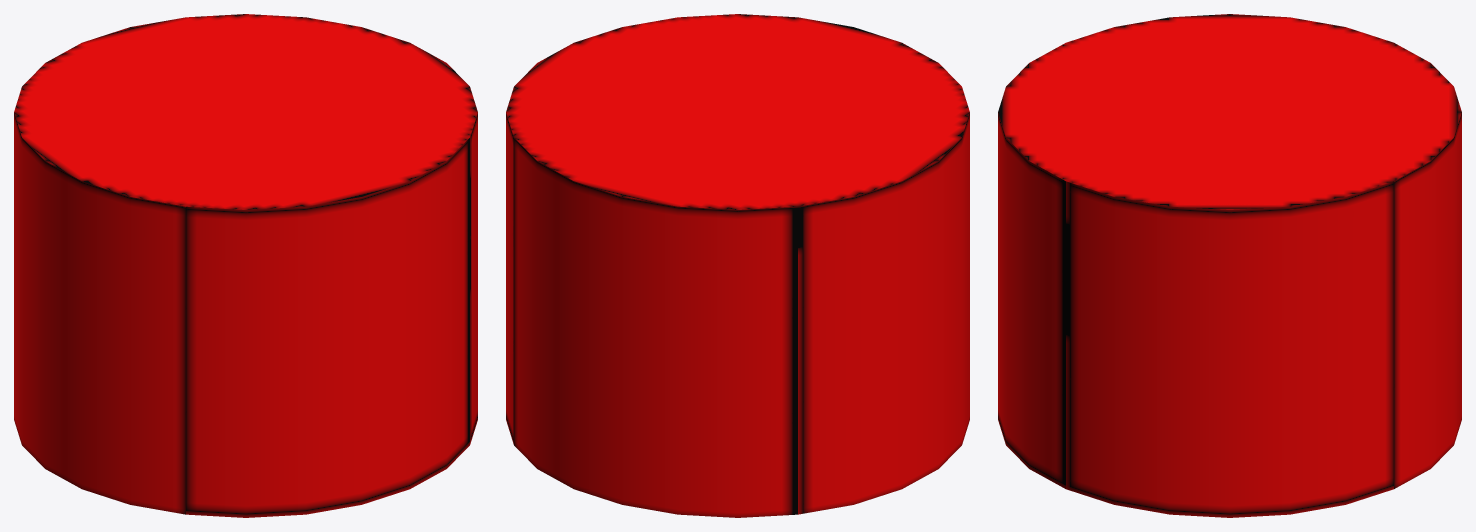
The model's file is Alniyat_Crew_3_1_Interior.obj.
3 views of the same model, side by side, from view 1: azimuth 30°, elevation 25°; view 2: azimuth 150°, elevation 25°; view 3: azimuth 270°, elevation 25° (orthographic).
Visible parts, largest first — view 1: Alniyat_Crew_3_1_Interior; view 2: Alniyat_Crew_3_1_Interior; view 3: Alniyat_Crew_3_1_Interior.
Part boxes in pixels (x1,y1,x2,y2): Alniyat_Crew_3_1_Interior: [14, 14, 477, 517]; Alniyat_Crew_3_1_Interior: [506, 14, 969, 517]; Alniyat_Crew_3_1_Interior: [998, 14, 1461, 517].
Bounding box in the file's own units: 1.85 × 1.36 × 1.85.
1 material, 1 textured.
